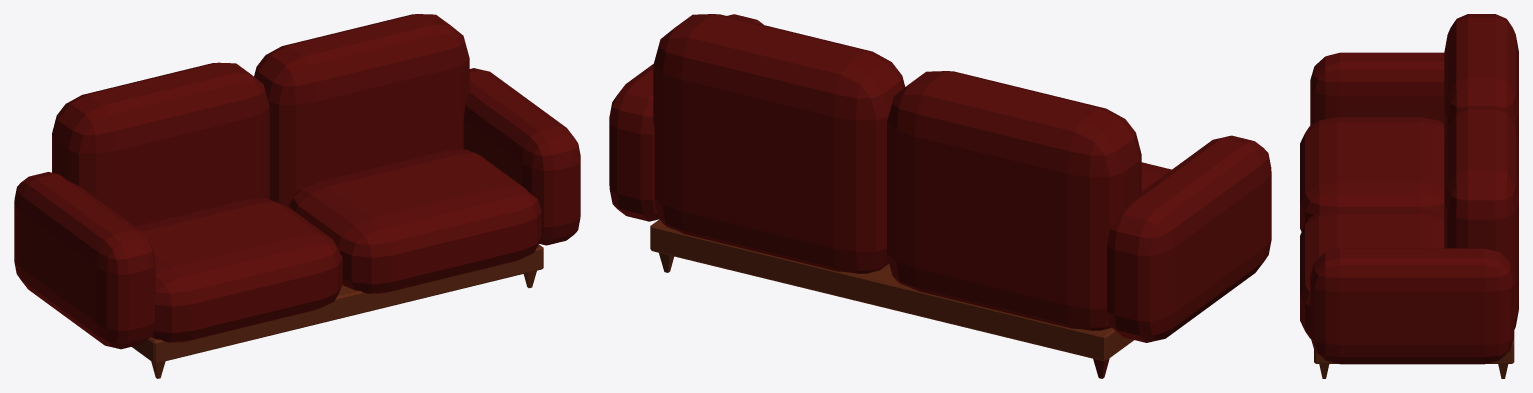
Rendered from hh_sofa.glb.
3 views of the same model, side by side, from view 1: azimuth 30°, elevation 25°; view 2: azimuth 150°, elevation 25°; view 3: azimuth 270°, elevation 25° (orthographic). The views are drawn at different scales.
Parts seen in each view (by area): view 1: Sofa_A; view 2: Sofa_A; view 3: Sofa_A.
Boxes of the visible parts, box(x1,y1,x2,y2) form: Sofa_A: box(14, 14, 580, 378); Sofa_A: box(609, 14, 1271, 378); Sofa_A: box(1300, 14, 1518, 378).
Bounding box in the file's own units: 2.08 × 0.8795 × 0.8744.
